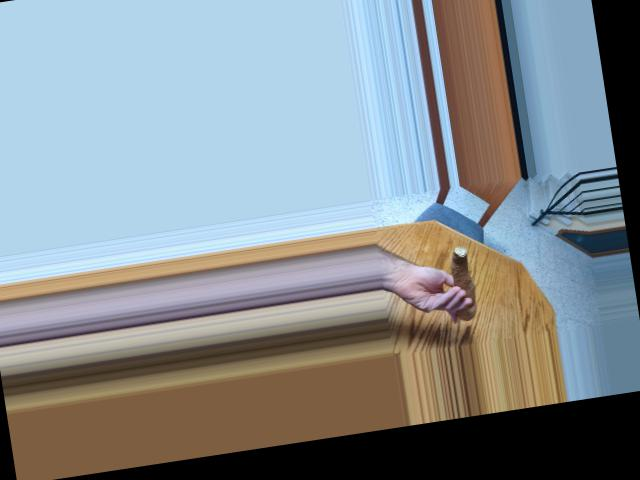sweet_potato: (443, 249, 484, 317)
